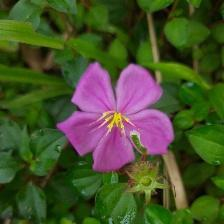malabar melastome: (56, 60, 179, 177)
